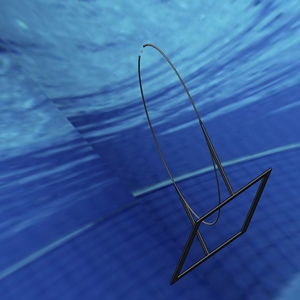circle: (137, 35, 273, 286)
